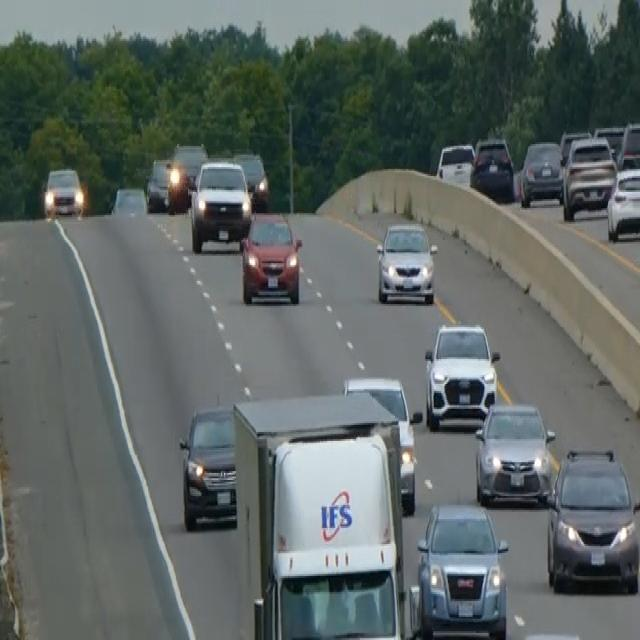car: (545, 444, 639, 596), (414, 500, 509, 638), (342, 373, 421, 514), (474, 398, 555, 507), (423, 320, 500, 430), (178, 402, 237, 530), (239, 208, 303, 304), (189, 156, 252, 252), (375, 219, 438, 304), (562, 135, 616, 221), (519, 137, 563, 206), (166, 140, 208, 212), (470, 135, 514, 201), (606, 164, 639, 242), (43, 165, 84, 219), (232, 149, 269, 208), (435, 140, 475, 185), (145, 156, 172, 212), (592, 122, 625, 162), (108, 183, 147, 215), (559, 128, 591, 165), (617, 119, 639, 171), (505, 630, 592, 638)
lorry: (230, 390, 414, 638)
